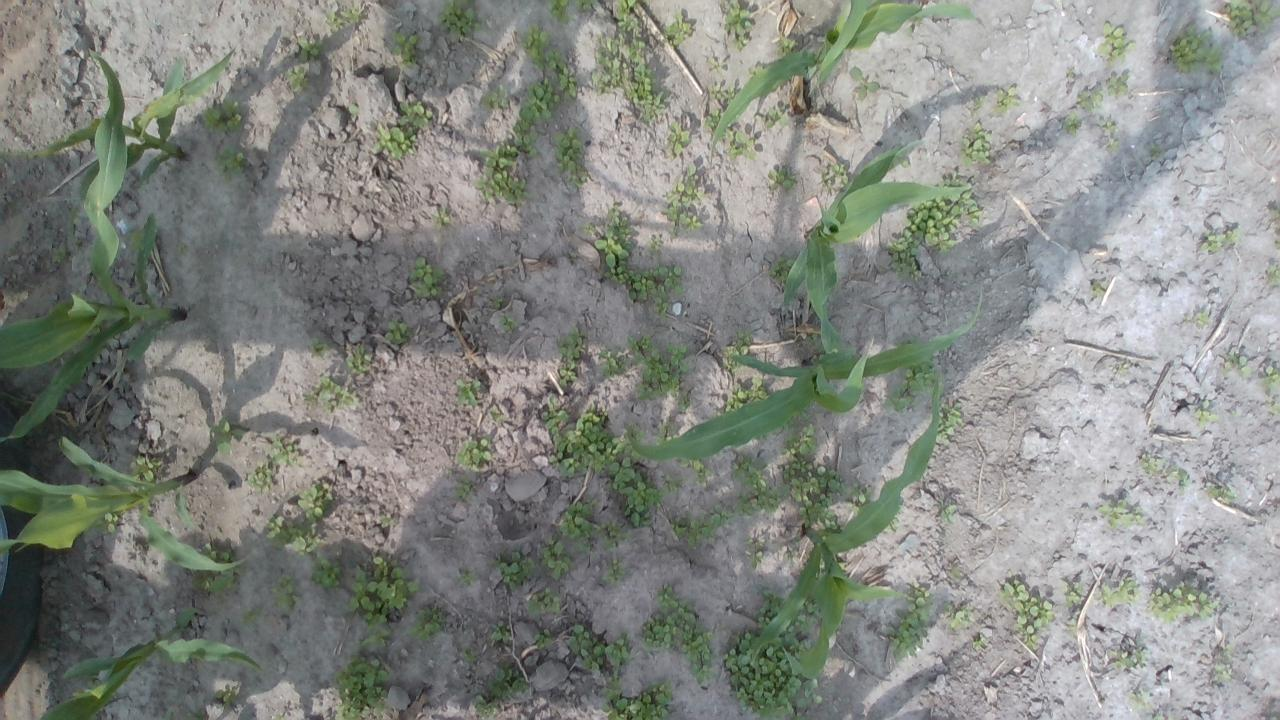Maize: (0, 48, 186, 448), (624, 288, 984, 460), (744, 376, 939, 676), (34, 33, 235, 256), (782, 138, 971, 356), (708, 0, 975, 142), (0, 434, 248, 572), (44, 605, 255, 720), (181, 706, 206, 720)
Weeds: (718, 591, 822, 720), (590, 29, 666, 124), (903, 176, 981, 254), (780, 454, 847, 544), (609, 424, 664, 528), (541, 393, 609, 477), (670, 599, 719, 685), (348, 556, 418, 616), (628, 334, 689, 402), (999, 580, 1056, 651), (334, 651, 389, 720), (886, 582, 933, 659), (593, 207, 638, 284), (662, 162, 704, 240), (730, 454, 782, 517), (475, 142, 528, 203), (602, 676, 672, 720), (629, 265, 684, 320), (1151, 582, 1215, 626), (886, 358, 936, 413), (262, 514, 322, 558), (551, 126, 591, 187), (1170, 29, 1223, 74), (1225, 0, 1280, 40), (303, 376, 357, 415), (518, 77, 560, 124), (566, 624, 606, 672), (544, 48, 580, 100), (558, 502, 594, 554), (558, 330, 590, 388), (1096, 21, 1136, 65), (496, 551, 540, 591), (485, 665, 531, 702), (296, 480, 333, 526), (689, 505, 730, 546), (724, 377, 768, 415), (408, 254, 446, 298), (374, 124, 418, 161), (541, 536, 576, 582), (720, 0, 752, 50), (440, 0, 481, 39), (200, 96, 244, 132), (406, 606, 448, 642), (960, 122, 992, 169), (718, 328, 752, 372), (520, 22, 552, 68), (1098, 500, 1144, 530), (454, 436, 492, 472), (888, 238, 919, 282), (210, 415, 243, 456), (934, 403, 964, 448), (640, 613, 674, 651), (215, 144, 250, 180), (270, 574, 302, 610), (722, 128, 756, 161), (308, 558, 344, 589), (190, 569, 236, 593), (389, 32, 418, 70), (512, 118, 540, 157), (272, 432, 304, 466), (1101, 577, 1137, 607), (784, 423, 818, 454), (665, 9, 692, 48), (362, 612, 392, 647), (398, 100, 433, 130), (850, 66, 880, 100), (664, 121, 690, 160), (604, 633, 632, 669), (942, 600, 974, 631), (678, 455, 711, 485), (592, 522, 626, 551), (1199, 228, 1238, 253), (325, 7, 365, 31), (526, 587, 562, 612), (346, 344, 374, 376), (128, 456, 160, 484), (846, 480, 870, 516), (247, 461, 274, 492), (769, 255, 796, 286), (614, 0, 640, 31), (766, 167, 798, 192), (599, 350, 627, 378), (453, 377, 480, 406), (1109, 648, 1146, 669), (820, 164, 849, 190), (1222, 353, 1251, 379), (546, 0, 574, 26), (297, 36, 327, 60), (996, 85, 1021, 112), (744, 539, 765, 570), (1078, 88, 1104, 113), (654, 584, 679, 610), (384, 320, 409, 345), (1138, 454, 1166, 476), (202, 543, 234, 562), (1193, 406, 1217, 431), (1106, 74, 1130, 98), (214, 688, 238, 712), (286, 66, 311, 89), (95, 511, 118, 536), (485, 87, 510, 109), (606, 559, 626, 586), (472, 694, 497, 715), (1064, 581, 1083, 607), (492, 620, 514, 642), (708, 84, 738, 100), (1206, 486, 1236, 502), (310, 336, 330, 360), (1064, 110, 1082, 136), (1172, 468, 1192, 491), (1214, 660, 1234, 683), (534, 628, 554, 651), (670, 516, 689, 540), (50, 244, 70, 266), (1262, 367, 1280, 391), (939, 502, 957, 526), (498, 313, 520, 332), (654, 426, 678, 443), (454, 480, 474, 500), (806, 332, 824, 354), (660, 475, 680, 494), (433, 209, 451, 230), (777, 37, 795, 57), (702, 111, 722, 129), (766, 110, 786, 128), (242, 608, 260, 627), (1192, 310, 1210, 328), (1266, 264, 1280, 286), (128, 231, 142, 252), (458, 568, 474, 586), (1132, 692, 1148, 708), (972, 636, 986, 654), (884, 512, 898, 530), (1150, 144, 1164, 162), (750, 64, 768, 77), (488, 406, 502, 422), (576, 0, 596, 11), (1090, 282, 1105, 296), (648, 238, 661, 254), (1106, 138, 1120, 152), (379, 512, 393, 526), (907, 19, 921, 33), (973, 95, 986, 110), (1100, 120, 1116, 132), (894, 144, 907, 158), (1068, 616, 1078, 634), (679, 398, 691, 412), (176, 243, 188, 257), (582, 223, 594, 236), (1117, 364, 1130, 376), (950, 564, 961, 578), (463, 649, 475, 661), (493, 296, 502, 310), (350, 102, 360, 114), (899, 158, 910, 168), (786, 547, 794, 560), (1224, 646, 1232, 658), (837, 560, 846, 570), (1066, 68, 1074, 78), (1152, 714, 1164, 720)
